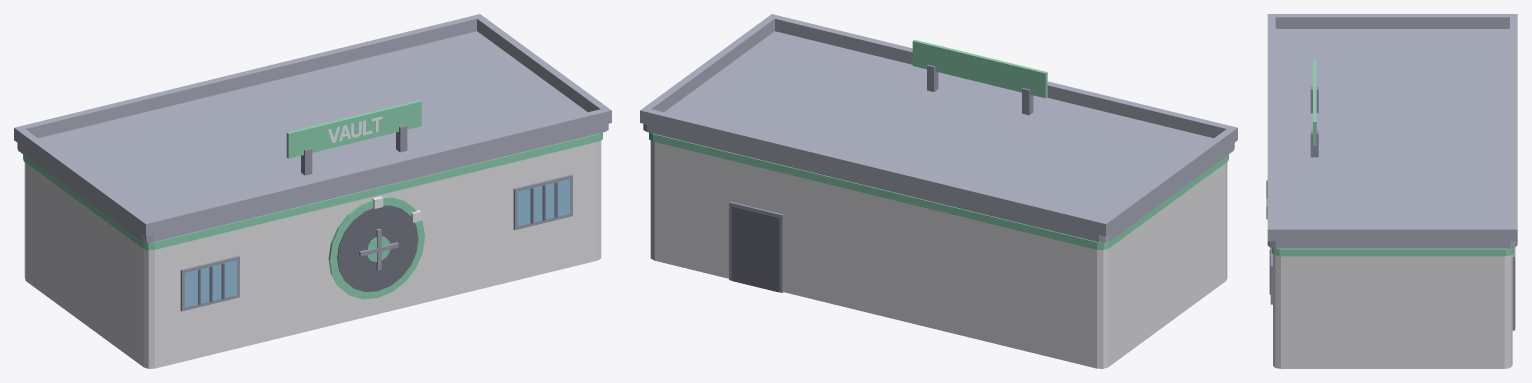
Rendered from vault-2x1-t2-tone-a.glb.
3 renders of one model, left to right at view 1: azimuth 30°, elevation 25°; view 2: azimuth 150°, elevation 25°; view 3: azimuth 270°, elevation 25°, orthographic. The views are drawn at different scales.
Parts seen in each view (by area): view 1: vault-2x1-t2-tone-a; view 2: vault-2x1-t2-tone-a; view 3: vault-2x1-t2-tone-a.
Boxes of the visible parts, bbox=[...] form: vault-2x1-t2-tone-a: bbox=[14, 14, 611, 368]; vault-2x1-t2-tone-a: bbox=[640, 14, 1237, 368]; vault-2x1-t2-tone-a: bbox=[1266, 14, 1517, 368].
Size of the model in its own units: 1.96 by 0.73 by 0.966.
Materials: 1 (1 with a texture image).
